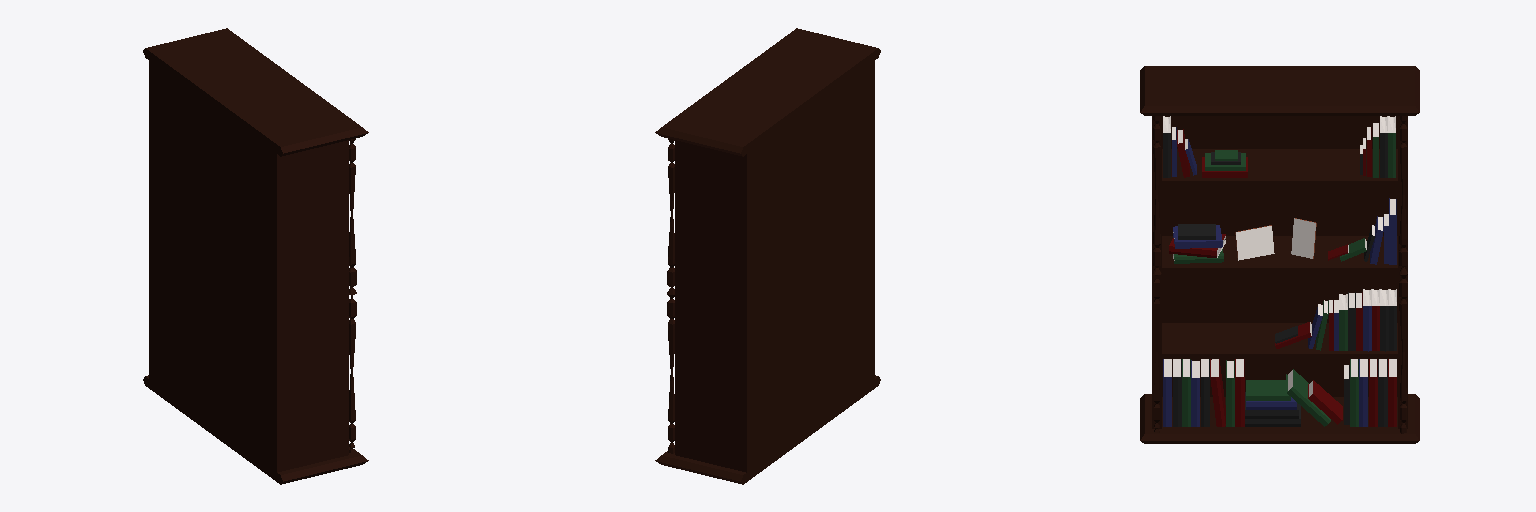
Rendered from uv_EstanteDeLivros.obj.
3 renders of one model, left to right at view 1: azimuth 30°, elevation 25°; view 2: azimuth 150°, elevation 25°; view 3: azimuth 270°, elevation 25°, orthographic.
Parts seen in each view (by area): view 1: pCube187; view 2: pCube187; view 3: pCube187.
Boxes of the visible parts, <box> form: pCube187: <box>143,28,368,484</box>; pCube187: <box>655,28,880,484</box>; pCube187: <box>1140,66,1419,443</box>.
Bounding box in the file's own units: 59.99 × 225 × 169.